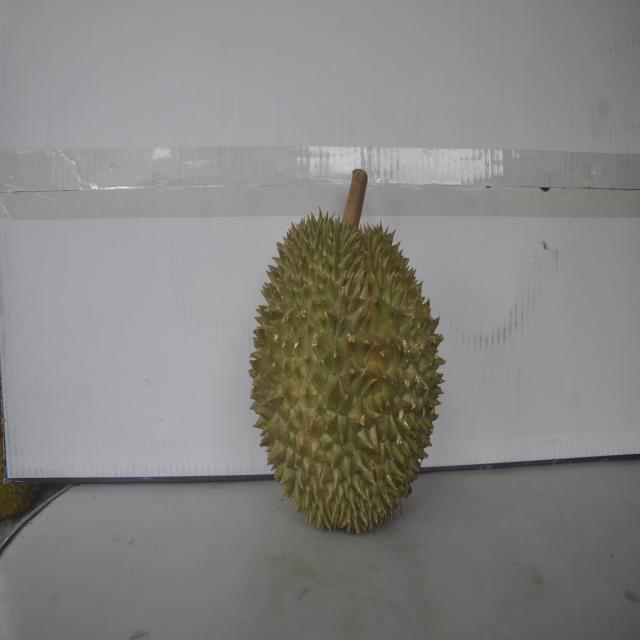mature: (247, 191, 443, 535)
